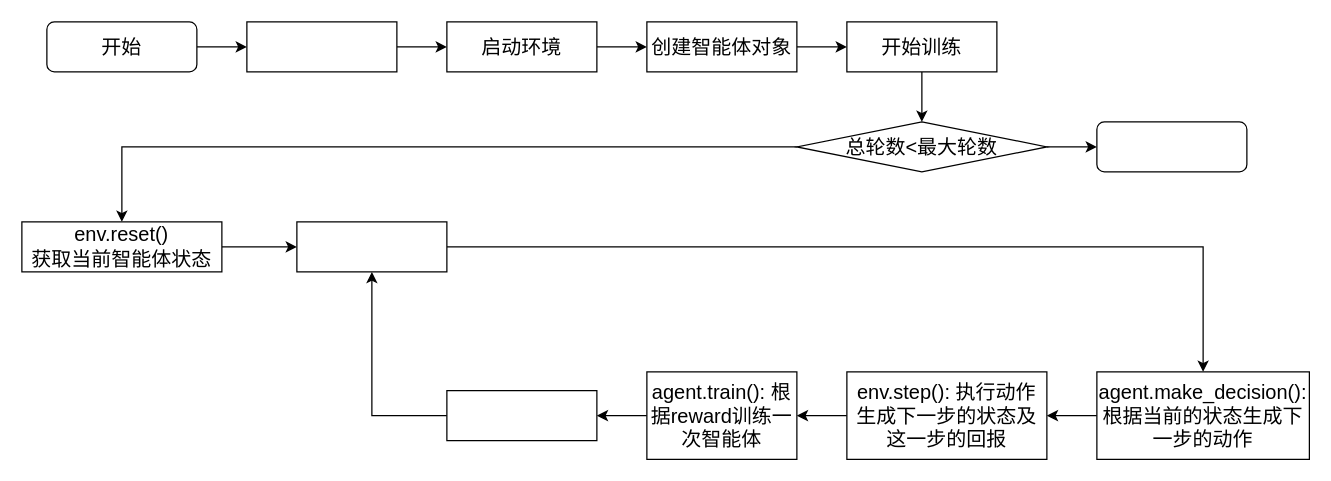
This 1331x481 diagram has some shape labels left out. The centre of each missing label's shape, as x and y in pixels:
"agent.reset() 保存当前模型" belongs at point (371, 246).
"更新状态及回报值" belongs at point (521, 415).
"结束" belongs at point (1171, 146).
"读取配置文件并创建环境" belongs at point (321, 46).
